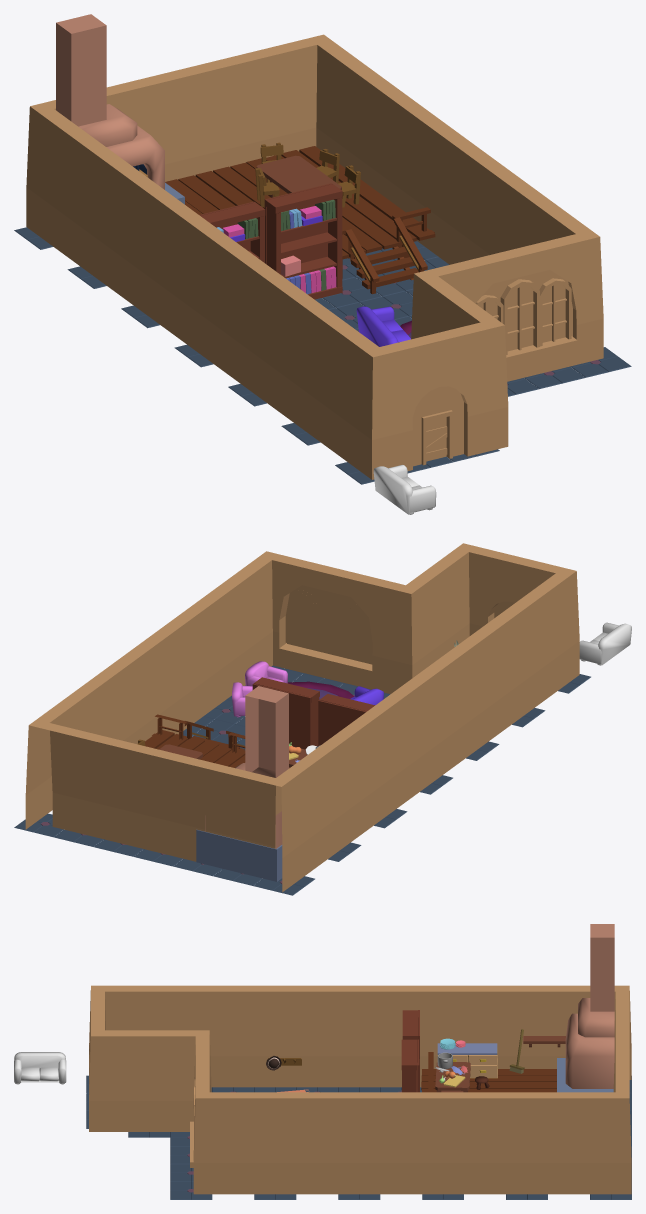
Rendered from Jaspers House.fbx.
3 views of the same model, one above another, from view 1: azimuth 30°, elevation 25°; view 2: azimuth 150°, elevation 25°; view 3: azimuth 270°, elevation 25° (orthographic). The views are drawn at different scales.
Visible parts, largest first — view 1: Plane.001, Plane, Plane.010, Plane.007, Plane.014, Plane.025, Plane.013, Circle.004, Plane.020, Circle.005; view 2: Plane.001, Plane, Plane.010, Plane.014, Plane.007, Plane.013, Circle.004, Circle.003, Circle.001, Circle.002; view 3: Plane.001, Plane.010, Plane, Plane.007, Circle.004, Plane.018, Plane.014, Plane.012, Plane.013.
Part boxes in pixels (box(x1,y1,x2,y2)): Plane.001: box(26, 34, 603, 479); Plane: box(14, 227, 631, 484); Plane.010: box(56, 14, 184, 204); Plane.007: box(165, 146, 435, 278); Plane.014: box(264, 183, 342, 299); Plane.025: box(345, 217, 427, 294); Plane.013: box(199, 201, 265, 262); Circle.004: box(373, 464, 436, 514); Plane.020: box(256, 155, 341, 197); Circle.005: box(356, 306, 410, 346); Plane.001: box(25, 543, 579, 892); Plane: box(14, 665, 590, 895); Plane.010: box(196, 686, 288, 881); Plane.014: box(252, 677, 319, 749); Plane.007: box(145, 714, 245, 767); Plane.013: box(318, 694, 374, 746); Circle.004: box(579, 622, 631, 665); Circle.003: box(245, 661, 287, 686); Circle.001: box(288, 681, 354, 699); Circle.002: box(232, 682, 252, 717); Plane.001: box(89, 985, 631, 1194); Plane.010: box(557, 924, 614, 1092); Plane: box(86, 1075, 631, 1199); Plane.007: box(421, 1052, 556, 1092); Circle.004: box(14, 1052, 66, 1084); Plane.018: box(437, 1043, 497, 1078); Plane.014: box(401, 1039, 419, 1092); Plane.012: box(435, 1062, 470, 1092); Plane.013: box(402, 1010, 419, 1092).
Bounding box in the file's own units: 1407 × 881 × 2945.
